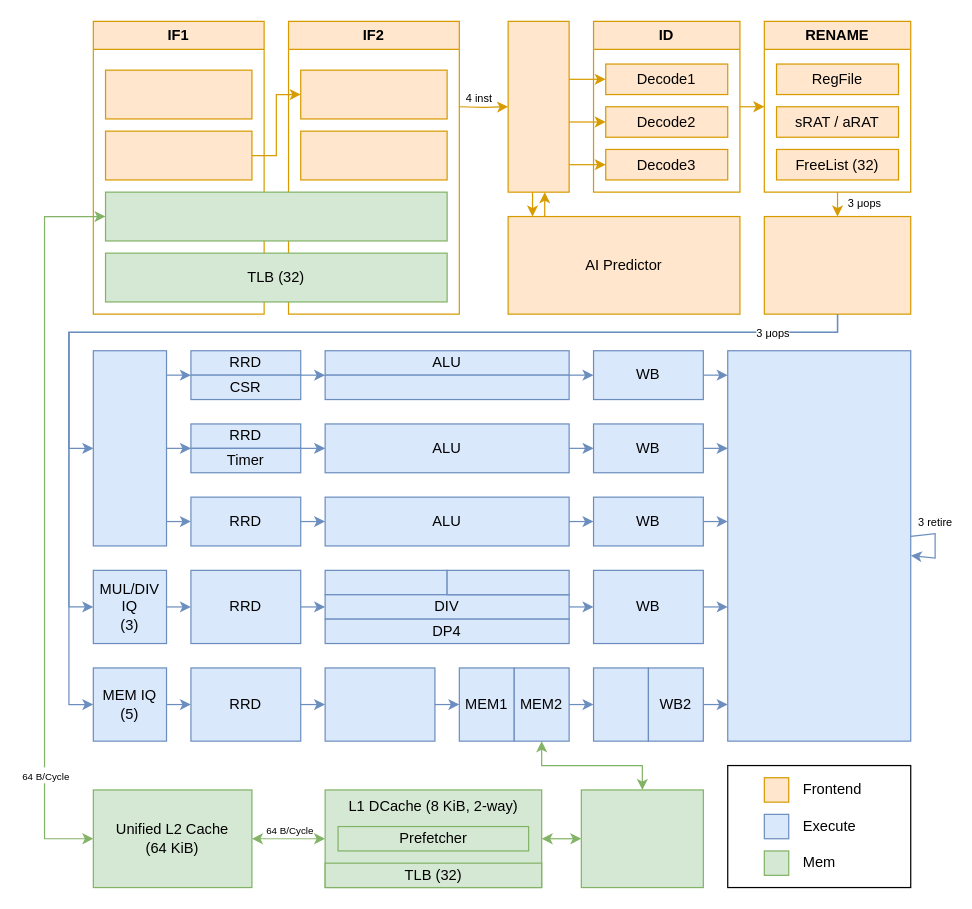
Some shapes in this 972 by 909 pixel diagram are drawn without their labels. The centre of each missing label's shape, as x and y in pixels:
"ADDR" goes at point 379,704.
"ALU IQ (7)" goes at point 129,448.
"Branch" goes at point 446,387.
"BTB (1024)" goes at point 178,155.
"DISPATCH" goes at point 837,264.
"Fetch Buffer (8)" goes at point 538,106.
"L1 ICache (8 KiB, 2-way)" goes at point 275,216.
"MUL1" goes at point 385,582.
"MUL2" goes at point 507,582.
"PC" goes at point 178,94.
"PHT (8192)" goes at point 373,94.
"RAS (8)" goes at point 373,155.
"ROB (32)" goes at point 819,545.
"StoreBuffer (8)" goes at point 641,838.
"WB1" goes at point 620,704.
